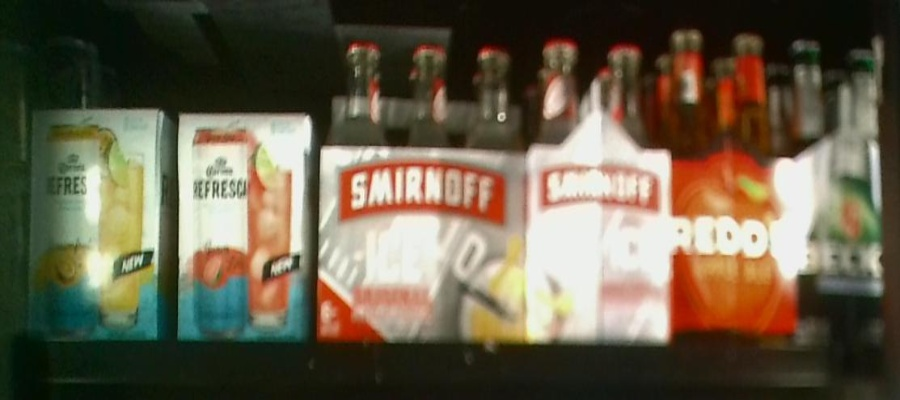bottle: (323, 38, 526, 345), (526, 37, 670, 342), (672, 30, 796, 333), (21, 109, 174, 341), (180, 109, 314, 339), (798, 33, 881, 310)
